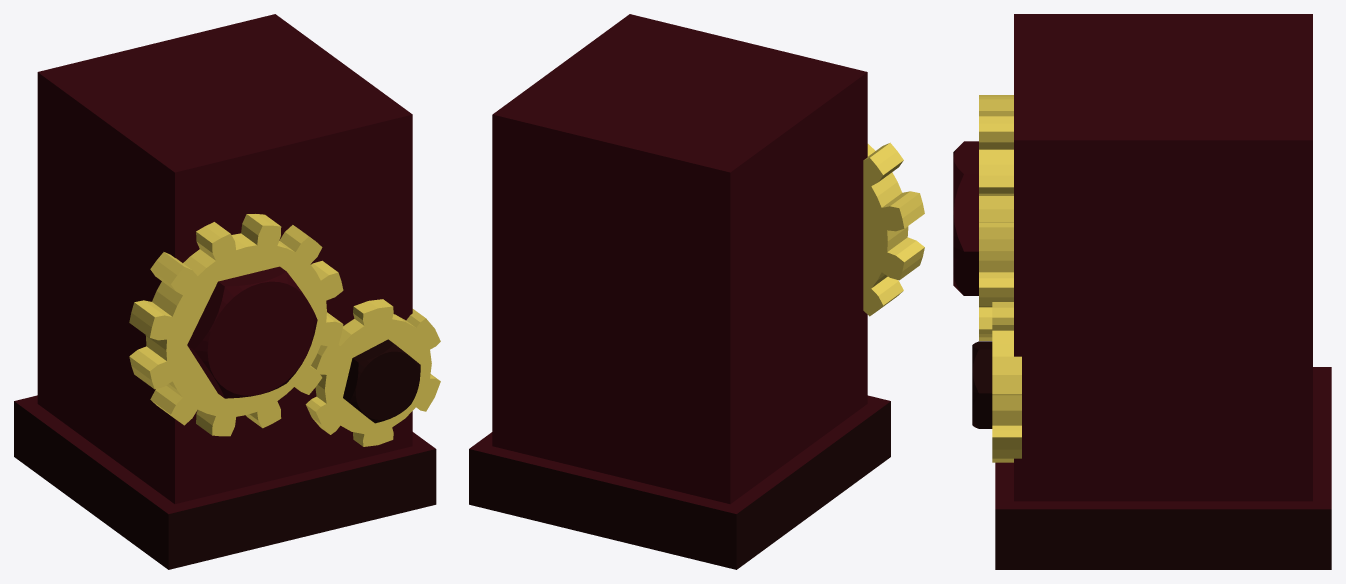
Rendered from craftsman_hat.glb.
3 views of the same model, side by side, from view 1: azimuth 30°, elevation 25°; view 2: azimuth 150°, elevation 25°; view 3: azimuth 270°, elevation 25° (orthographic). The views are drawn at different scales.
Visible parts, largest first — view 1: Cube, Gear, Bolt, Gear.001, Bolt.002; view 2: Cube, Gear; view 3: Cube, Gear, Gear.001, Bolt, Bolt.002.
Part boxes in pixels (left/top/right/bottom): Cube: left=14, top=14, right=436, bottom=569; Gear: left=129, top=214, right=343, bottom=436; Bolt: left=187, top=266, right=317, bottom=398; Gear.001: left=305, top=299, right=440, bottom=446; Bolt.002: left=343, top=339, right=420, bottom=423; Cube: left=469, top=14, right=890, bottom=569; Gear: left=863, top=142, right=924, bottom=316; Cube: left=995, top=14, right=1331, bottom=569; Gear: left=979, top=95, right=1013, bottom=340; Gear.001: left=992, top=302, right=1021, bottom=462; Bolt: left=953, top=141, right=978, bottom=295; Bolt.002: left=972, top=341, right=992, bottom=428.
Bounding box in the file's own units: 0.9993 × 1.25 × 1.01.
